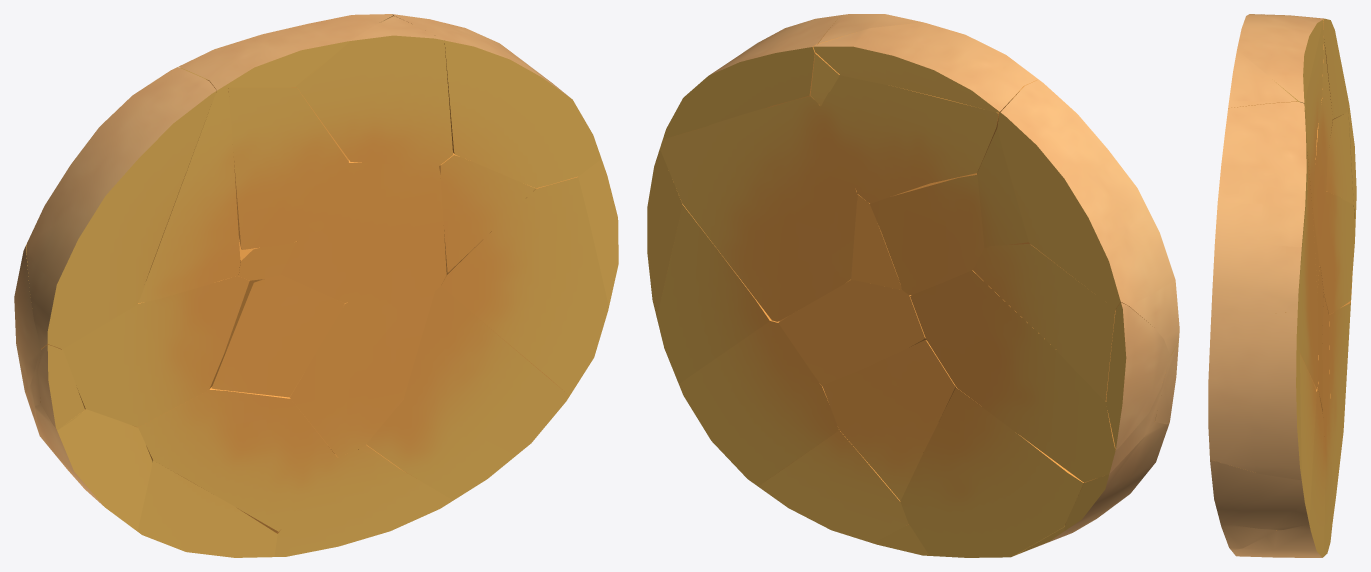
File: Turmeric_Slice_Pieces.fbx
3 renders of one model, left to right at view 1: azimuth 30°, elevation 25°; view 2: azimuth 150°, elevation 25°; view 3: azimuth 270°, elevation 25°, orthographic. The views are drawn at different scales.
Visible parts, largest first — view 1: Retopo_Sphere_001_cell.010, Retopo_Sphere_001_cell.001, Retopo_Sphere_001_cell.020, Retopo_Sphere_001_cell.003, Retopo_Sphere_001_cell.018, Retopo_Sphere_001_cell.005, Retopo_Sphere_001_cell.021, Retopo_Sphere_001_cell.004, Retopo_Sphere_001_cell.009, Retopo_Sphere_001_cell.008, Retopo_Sphere_001_cell.022, Retopo_Sphere_001_cell.012 (+10 smaller); view 2: Retopo_Sphere_001_cell.006, Retopo_Sphere_001_cell.010, Retopo_Sphere_001_cell.003, Retopo_Sphere_001_cell.018, Retopo_Sphere_001_cell.027, Retopo_Sphere_001_cell.024, Retopo_Sphere_001_cell.028, Retopo_Sphere_001_cell.013, Retopo_Sphere_001_cell.001, Retopo_Sphere_001_cell.019, Retopo_Sphere_001_cell.008, Retopo_Sphere_001_cell.016 (+10 smaller); view 3: Retopo_Sphere_001_cell.021, Retopo_Sphere_001_cell.014, Retopo_Sphere_001_cell.001, Retopo_Sphere_001_cell.028, Retopo_Sphere_001_cell.027, Retopo_Sphere_001_cell.003, Retopo_Sphere_001_cell.006, Retopo_Sphere_001_cell.018, Retopo_Sphere_001_cell.005, Retopo_Sphere_001_cell.019, Retopo_Sphere_001_cell.024, Retopo_Sphere_001_cell.010 (+8 smaller).
Boxes of the visible parts, bbox=[...] form: Retopo_Sphere_001_cell.010: bbox=[26, 67, 216, 349]; Retopo_Sphere_001_cell.001: bbox=[441, 176, 608, 395]; Retopo_Sphere_001_cell.020: bbox=[281, 160, 446, 302]; Retopo_Sphere_001_cell.003: bbox=[25, 275, 261, 427]; Retopo_Sphere_001_cell.018: bbox=[137, 387, 337, 532]; Retopo_Sphere_001_cell.005: bbox=[296, 16, 452, 165]; Retopo_Sphere_001_cell.021: bbox=[392, 14, 601, 188]; Retopo_Sphere_001_cell.004: bbox=[404, 286, 569, 455]; Retopo_Sphere_001_cell.009: bbox=[228, 87, 348, 249]; Retopo_Sphere_001_cell.008: bbox=[289, 291, 434, 456]; Retopo_Sphere_001_cell.022: bbox=[138, 79, 240, 303]; Retopo_Sphere_001_cell.012: bbox=[274, 449, 452, 556]; Retopo_Sphere_001_cell.006: bbox=[660, 96, 856, 321]; Retopo_Sphere_001_cell.010: bbox=[997, 79, 1179, 355]; Retopo_Sphere_001_cell.003: bbox=[910, 270, 1170, 482]; Retopo_Sphere_001_cell.018: bbox=[900, 386, 1083, 557]; Retopo_Sphere_001_cell.027: bbox=[679, 320, 838, 486]; Retopo_Sphere_001_cell.024: bbox=[820, 75, 999, 203]; Retopo_Sphere_001_cell.028: bbox=[813, 22, 1032, 112]; Retopo_Sphere_001_cell.013: bbox=[822, 340, 955, 500]; Retopo_Sphere_001_cell.001: bbox=[657, 204, 771, 383]; Retopo_Sphere_001_cell.019: bbox=[973, 244, 1115, 401]; Retopo_Sphere_001_cell.008: bbox=[778, 279, 926, 386]; Retopo_Sphere_001_cell.016: bbox=[870, 173, 984, 295]; Retopo_Sphere_001_cell.021: bbox=[1211, 101, 1307, 315]; Retopo_Sphere_001_cell.014: bbox=[1208, 312, 1301, 480]; Retopo_Sphere_001_cell.001: bbox=[1210, 354, 1316, 530]; Retopo_Sphere_001_cell.028: bbox=[1237, 14, 1323, 109]; Retopo_Sphere_001_cell.027: bbox=[1232, 387, 1325, 557]; Retopo_Sphere_001_cell.003: bbox=[1320, 191, 1354, 314]; Retopo_Sphere_001_cell.006: bbox=[1290, 152, 1318, 389]; Retopo_Sphere_001_cell.018: bbox=[1329, 301, 1350, 492]; Retopo_Sphere_001_cell.005: bbox=[1228, 50, 1307, 151]; Retopo_Sphere_001_cell.019: bbox=[1326, 112, 1353, 204]; Retopo_Sphere_001_cell.024: bbox=[1305, 22, 1323, 208]; Retopo_Sphere_001_cell.010: bbox=[1249, 14, 1348, 119].
Bounding box in the file's own units: 36.31 × 32.85 × 9.22.
